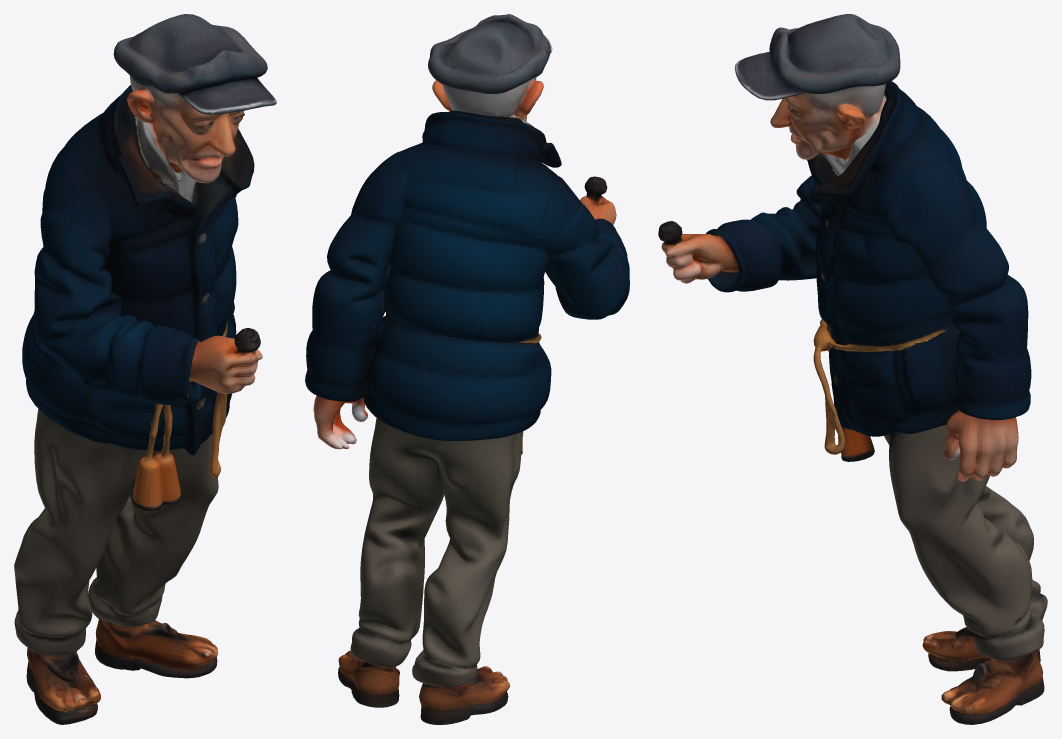
The model's file is watchman.glb.
3 views of the same model, side by side, from view 1: azimuth 30°, elevation 25°; view 2: azimuth 150°, elevation 25°; view 3: azimuth 270°, elevation 25° (orthographic). The views are drawn at different scales.
Bounding box in the file's own units: 0.3715 × 0.936 × 0.4951.
1 material, 1 textured.
